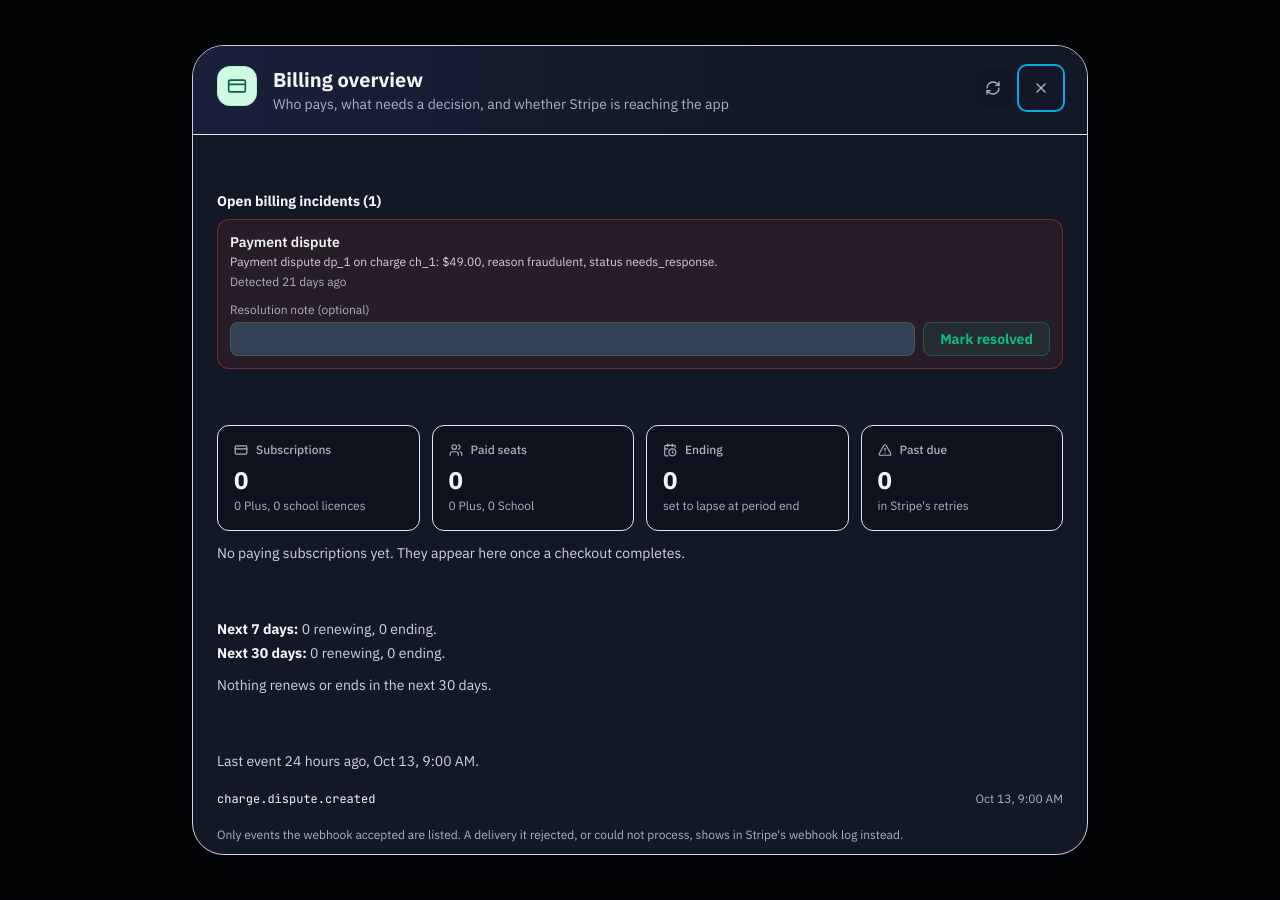
Test case: the Billing overview: open incidents count as needing attention › drops a resolved row from the page tally at once
This screenshot has width=1280, height=900.
Click the button "Mark resolved".
click(987, 339)  # box left=923, top=322, right=1050, bottom=356
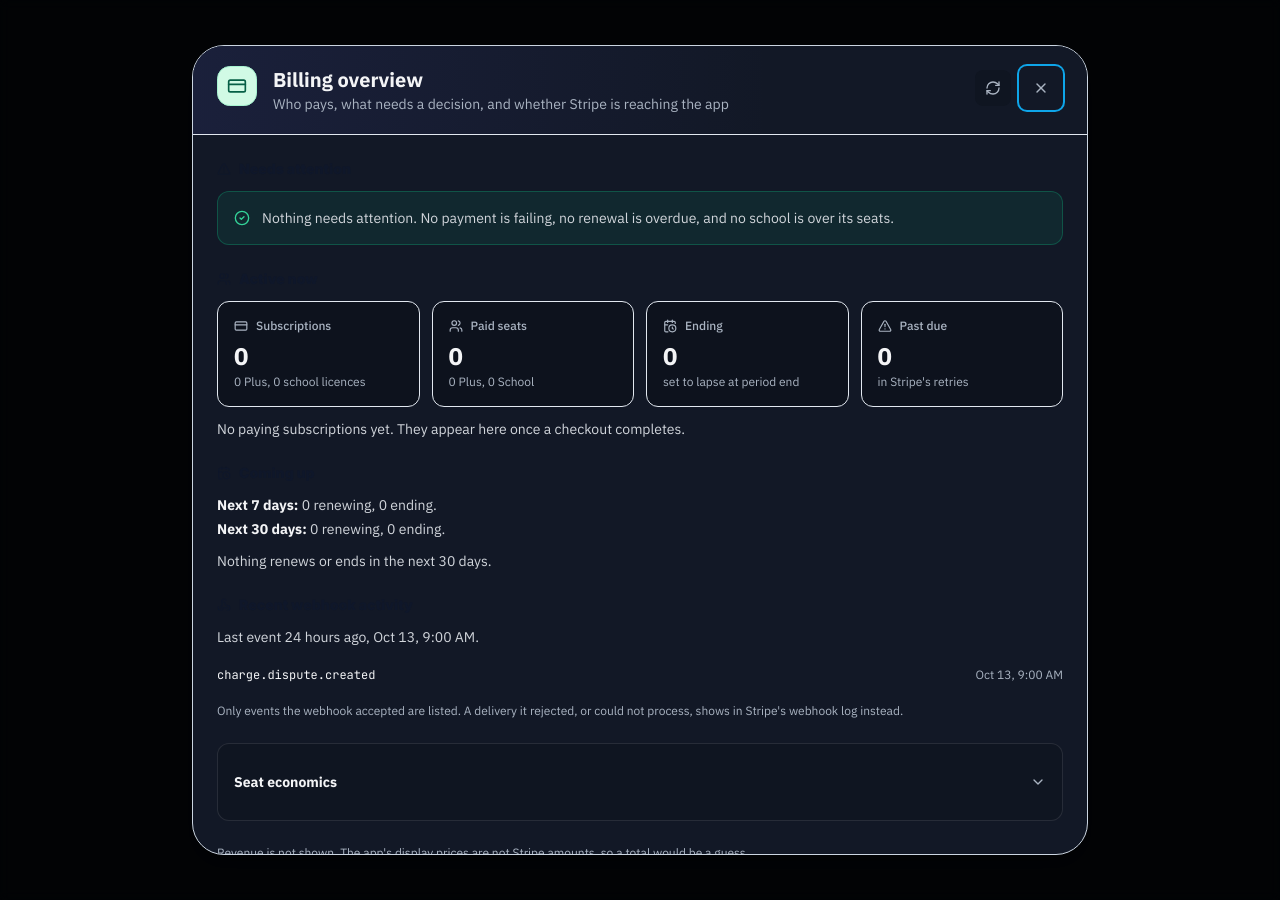
Expected: the text "Nothing needs attention" is shown, left=262, top=209, right=696, bottom=227
Expected: the heading "Open billing incidents (1)" is gone
